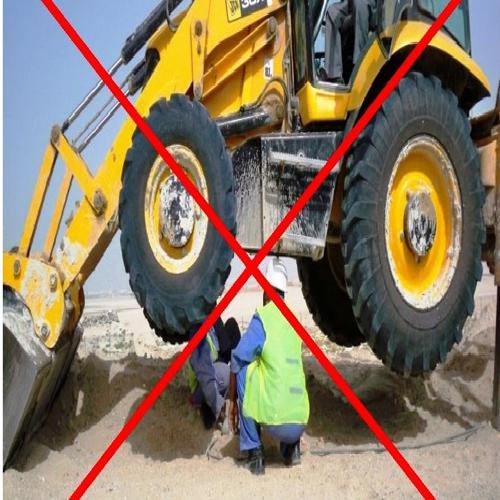con_eq: (5, 2, 489, 472)
